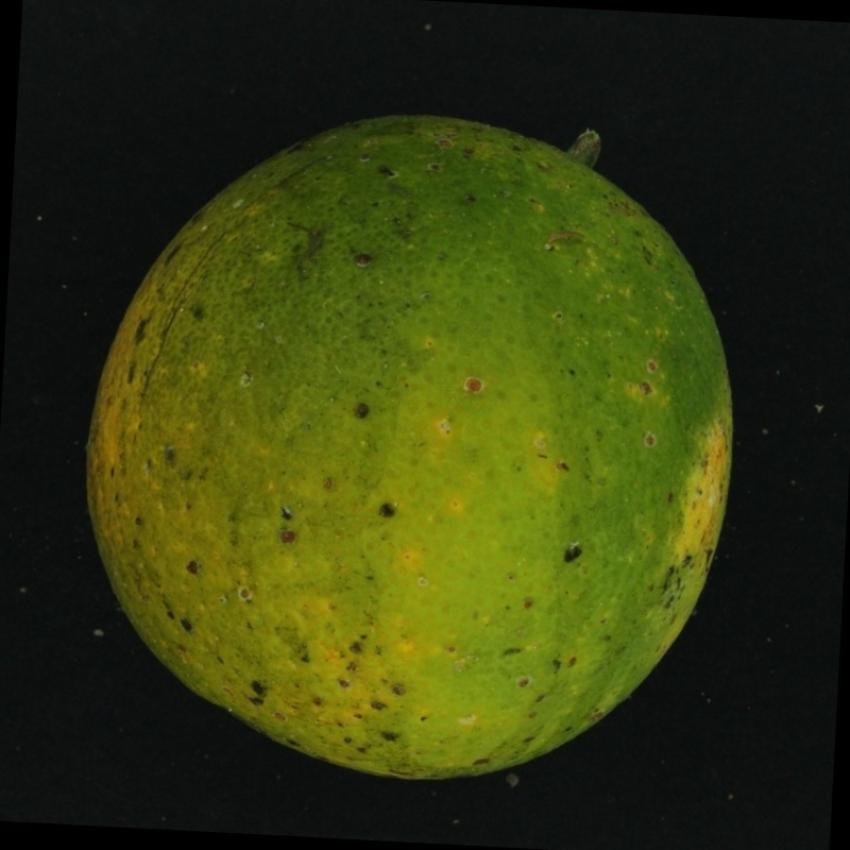Mal estado: (79, 86, 752, 794)
